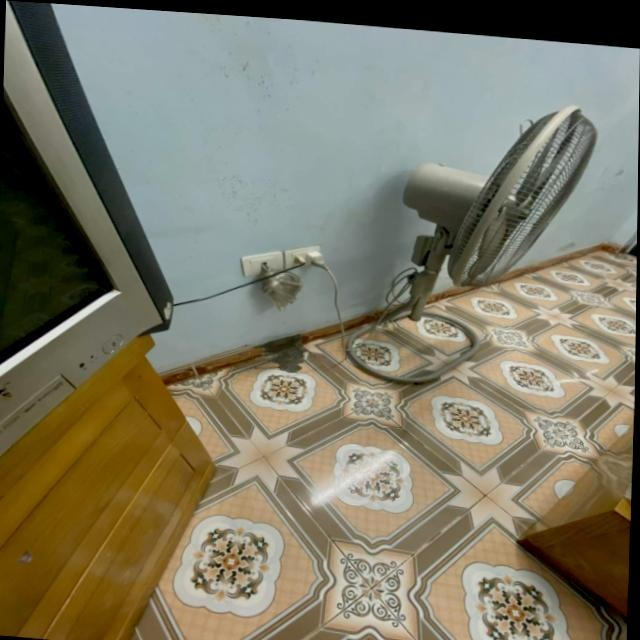outlet: (240, 247, 283, 280), (283, 242, 323, 274)
